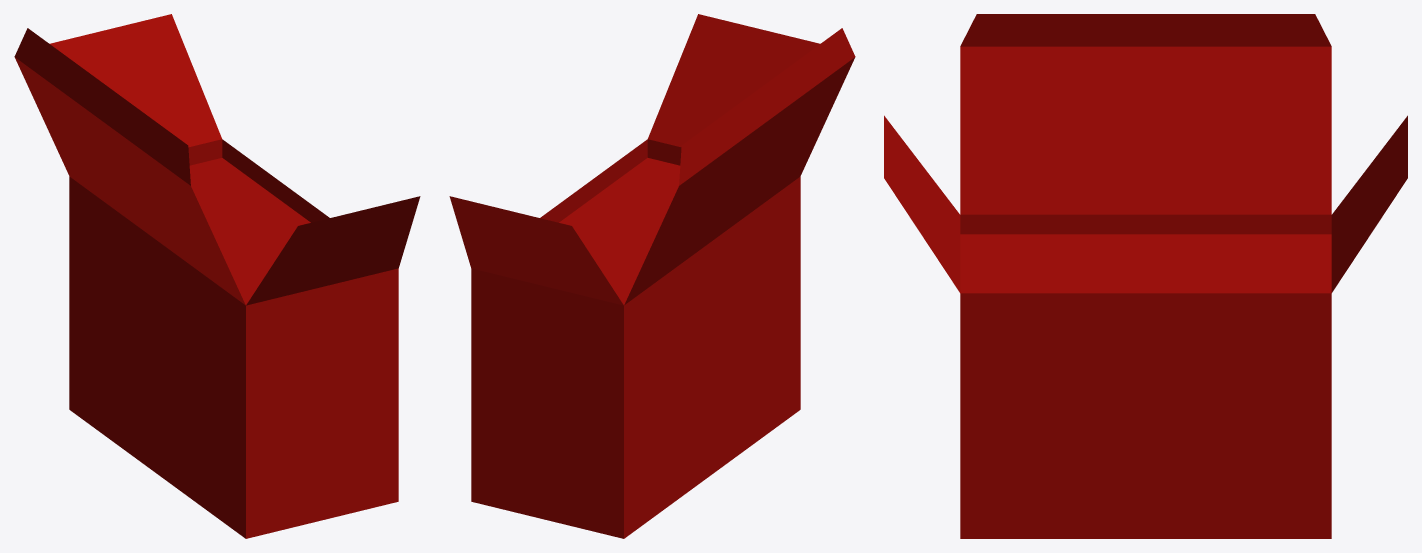
Rendered from 12GaugeShutgunBox.glb.
The picture shows the model from 3 angles, left to right: view 1: azimuth 30°, elevation 25°; view 2: azimuth 150°, elevation 25°; view 3: azimuth 270°, elevation 25°; orthographic projection. The views are drawn at different scales.
Visible parts, largest first — view 1: Cube; view 2: Cube; view 3: Cube.
Boxes of the visible parts, x1=… form: Cube: x1=14, y1=14, x2=420, y2=538; Cube: x1=449, y1=14, x2=855, y2=538; Cube: x1=884, y1=14, x2=1407, y2=538.
Size of the model in its own units: 0.0751 by 0.138 by 0.1556.
